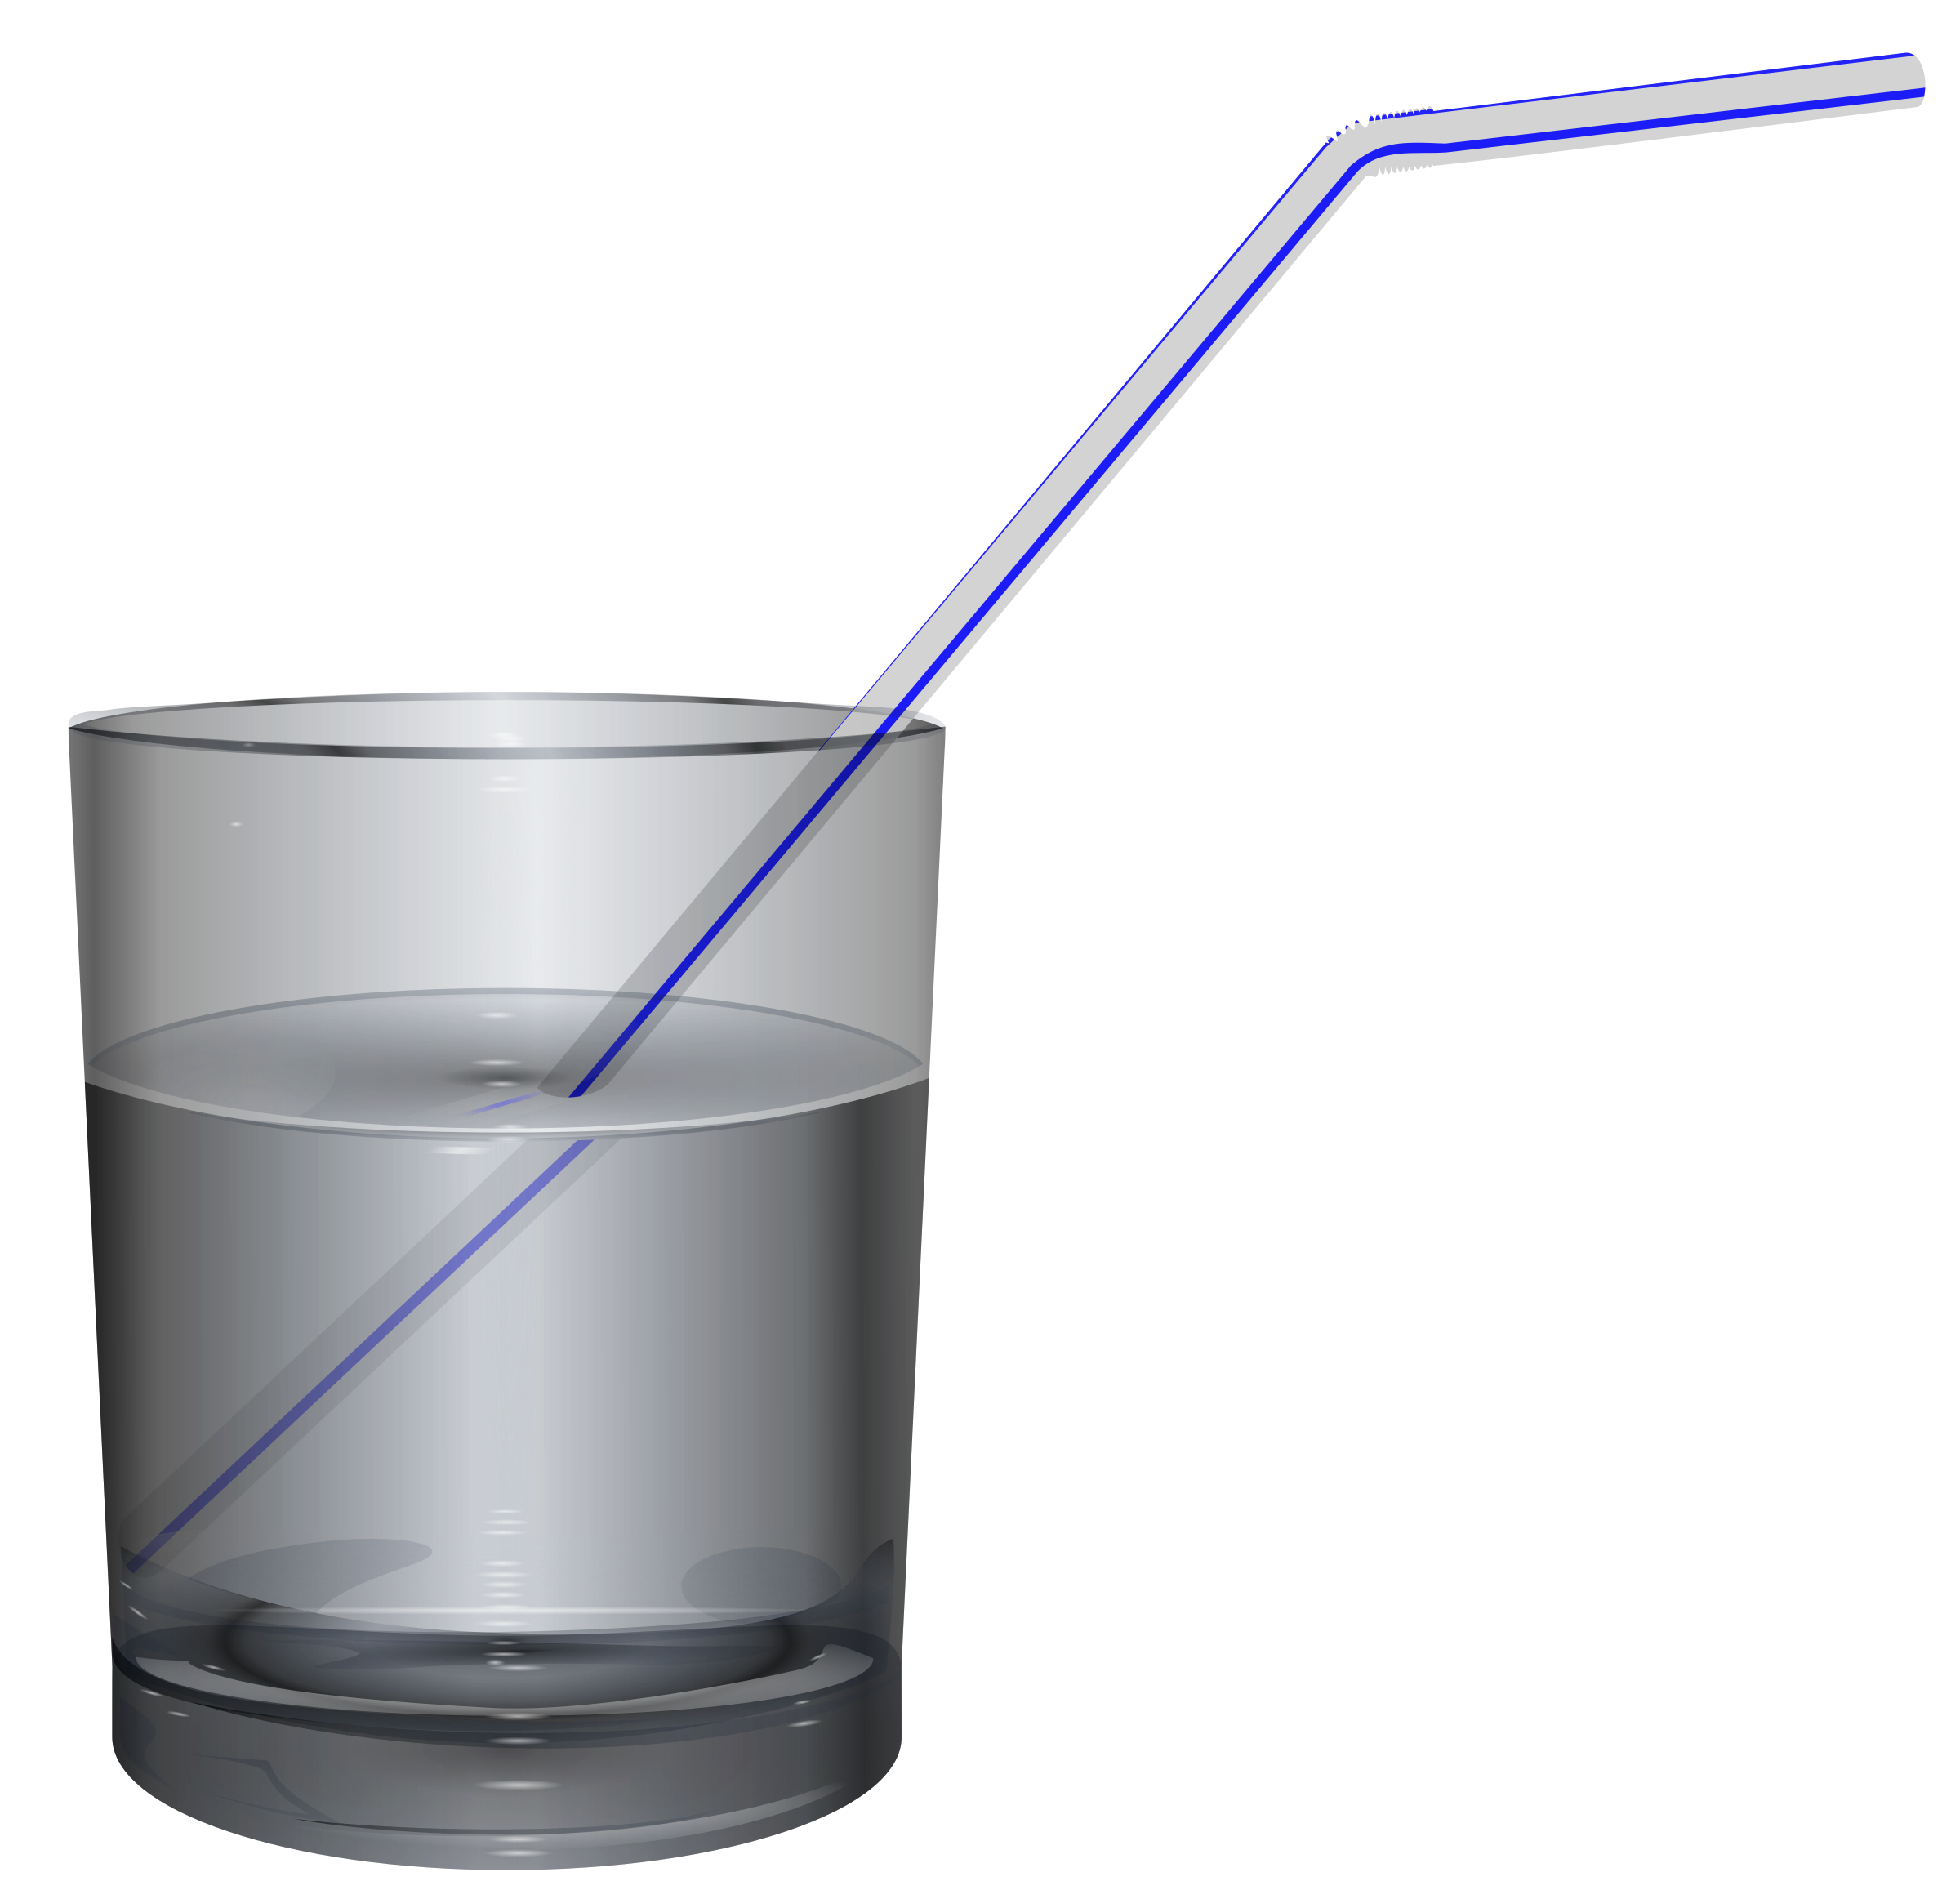glass of water: (56, 649, 971, 1885)
